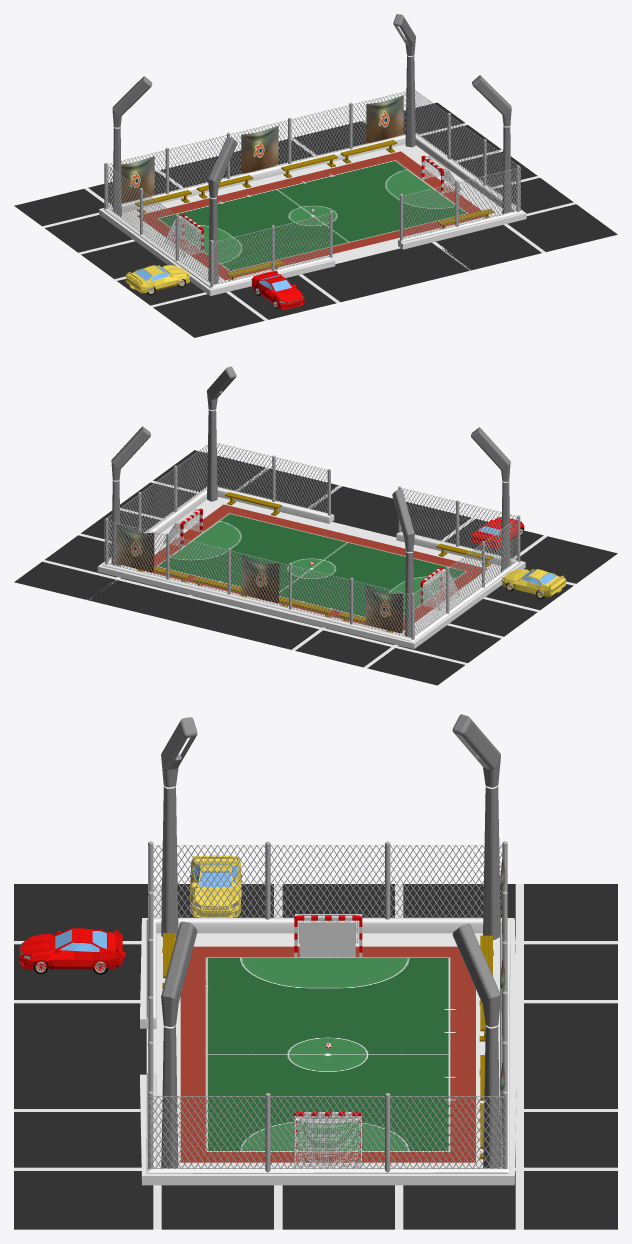
Rendered from playground02.glb.
The picture shows the model from 3 angles, top to bottom: view 1: azimuth 30°, elevation 25°; view 2: azimuth 150°, elevation 25°; view 3: azimuth 270°, elevation 25°; orthographic projection. The views are drawn at different scales.
Parts seen in each view (by area): view 1: Plane.005, Court, Plane.001, Plane.004, Plane, Plane.002, Plane.003, Cube.013, Cube.012, Plane.006, Plane.008, Cube.015 (+6 smaller); view 2: Plane.005, Court, Plane.001, Plane, Plane.004, Plane.002, Plane.003, Cube.013, Cube.012, Plane.008, Plane.007, Plane.006 (+6 smaller); view 3: Plane.005, Court, Plane.001, Plane.003, Plane.002, Cube.012, Cube.013, Cube.014, Cube.015, Cube.001, door, Cylinder.001 (+4 smaller).
Part boxes in pixels (left/top/right/bottom): Plane.005: left=14, top=102, right=617, bottom=337; Court: left=137, top=151, right=486, bottom=280; Plane.001: left=99, top=133, right=526, bottom=295; Plane.004: left=213, top=167, right=520, bottom=285; Plane: left=107, top=91, right=406, bottom=207; Plane.002: left=107, top=165, right=210, bottom=283; Plane.003: left=415, top=90, right=520, bottom=210; Cube.013: left=208, top=75, right=511, bottom=284; Cube.012: left=112, top=14, right=415, bottom=216; Plane.006: left=241, top=125, right=278, bottom=173; Plane.008: left=366, top=95, right=403, bottom=143; Cube.015: left=125, top=265, right=189, bottom=295; Plane.005: left=14, top=450, right=617, bottom=685; Court: left=136, top=504, right=487, bottom=633; Plane.001: left=97, top=487, right=525, bottom=648; Plane: left=108, top=520, right=411, bottom=637; Plane.004: left=216, top=443, right=517, bottom=559; Plane.002: left=414, top=518, right=517, bottom=635; Plane.003: left=104, top=444, right=207, bottom=562; Cube.013: left=207, top=366, right=510, bottom=571; Cube.012: left=111, top=426, right=414, bottom=637; Plane.008: left=116, top=524, right=154, bottom=572; Plane.007: left=365, top=585, right=403, bottom=633; Plane.006: left=241, top=554, right=279, bottom=602; Plane.005: left=14, top=884, right=617, bottom=1229; Court: left=180, top=946, right=475, bottom=1162; Plane.001: left=140, top=918, right=516, bottom=1185; Plane.003: left=148, top=1096, right=505, bottom=1168; Plane.002: left=153, top=845, right=502, bottom=917; Cube.012: left=452, top=714, right=500, bottom=1167; Cube.013: left=161, top=717, right=197, bottom=1167; Cube.014: left=19, top=928, right=125, bottom=974; Cube.015: left=190, top=855, right=241, bottom=917; Cube.001: left=296, top=1116, right=360, bottom=1167; door: left=299, top=923, right=355, bottom=957; Cylinder.001: left=148, top=841, right=153, bottom=1169.
Size of what is drawn, in the model's own units: 36.31 by 11.82 by 26.61.
23 materials, 2 textured.
